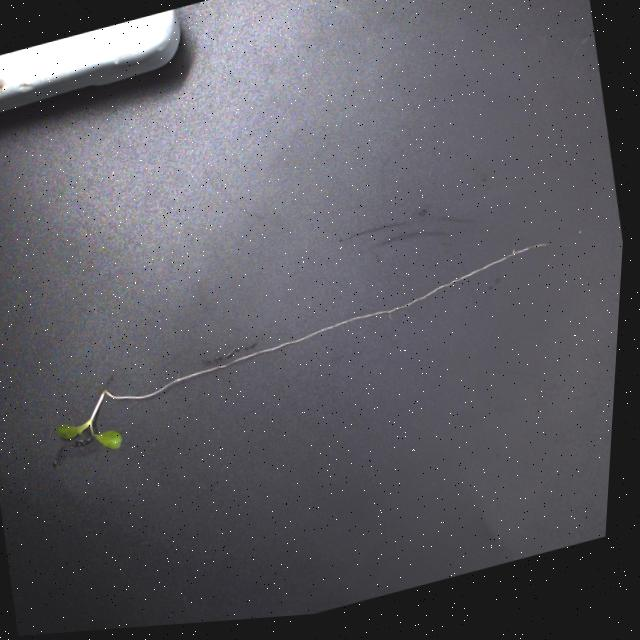leaf: (93, 428, 126, 452)
root: (104, 236, 557, 403)
steb: (78, 389, 110, 438)
